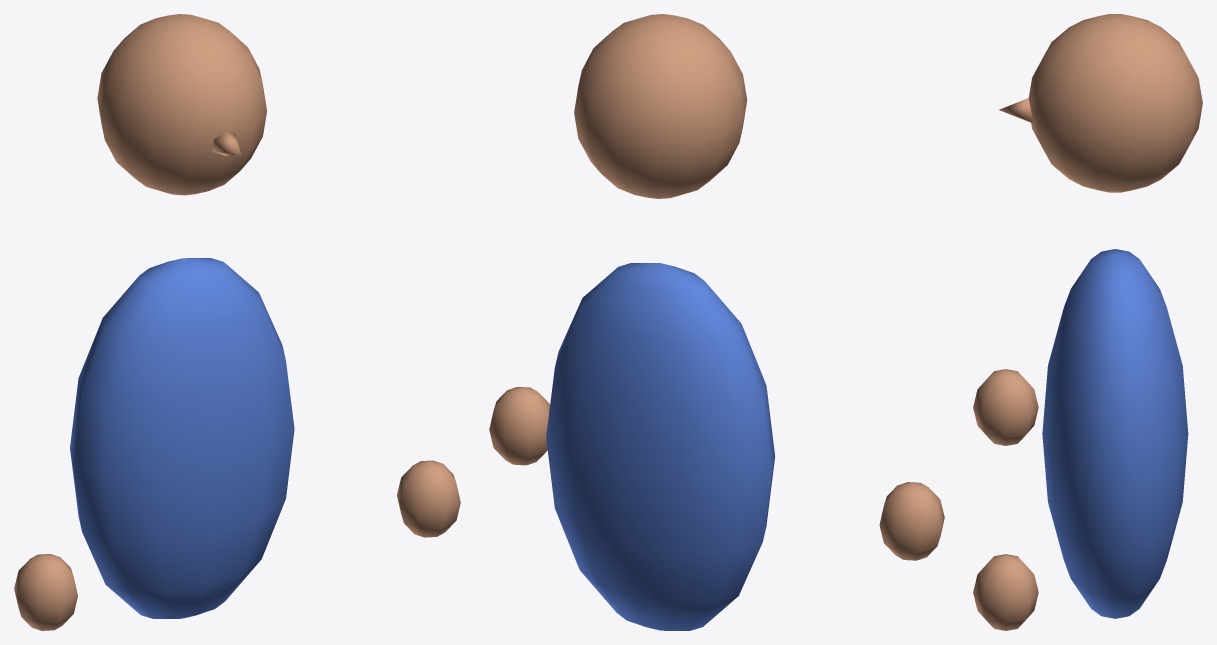
File: avatar_template.glb
3 renders of one model, left to right at view 1: azimuth 30°, elevation 25°; view 2: azimuth 150°, elevation 25°; view 3: azimuth 270°, elevation 25°, orthographic. The views are drawn at different scales.
Visible parts, largest first — view 1: Torso, Head, HandR, HandL; view 2: Torso, Head, HandR, HandL; view 3: Torso, Head, HandL, HandR.
Part boxes in pixels (left/top/right/bottom): Torso: left=70, top=258, right=294, bottom=618; Head: left=97, top=14, right=266, bottom=195; HandR: left=14, top=554, right=77, bottom=630; HandL: left=397, top=460, right=460, bottom=537; Torso: left=546, top=263, right=775, bottom=630; Head: left=574, top=14, right=747, bottom=198; HandR: left=879, top=482, right=944, bottom=560; HandL: left=489, top=387, right=550, bottom=465; Torso: left=1042, top=249, right=1188, bottom=618; Head: left=999, top=14, right=1202, bottom=192; HandL: left=973, top=554, right=1038, bottom=630; HandR: left=973, top=369, right=1038, bottom=445.
Bounding box in the file's own units: 0.69 × 0.895 × 0.315.
1 material, 1 textured.
